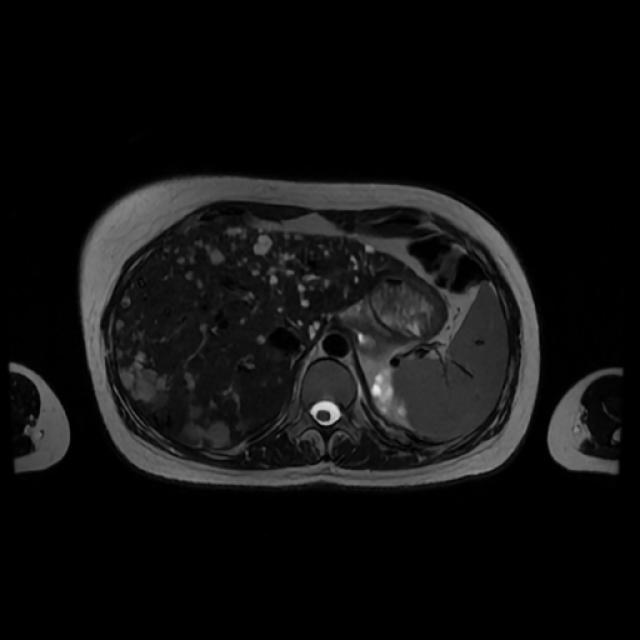sol: (370, 365, 415, 432)
